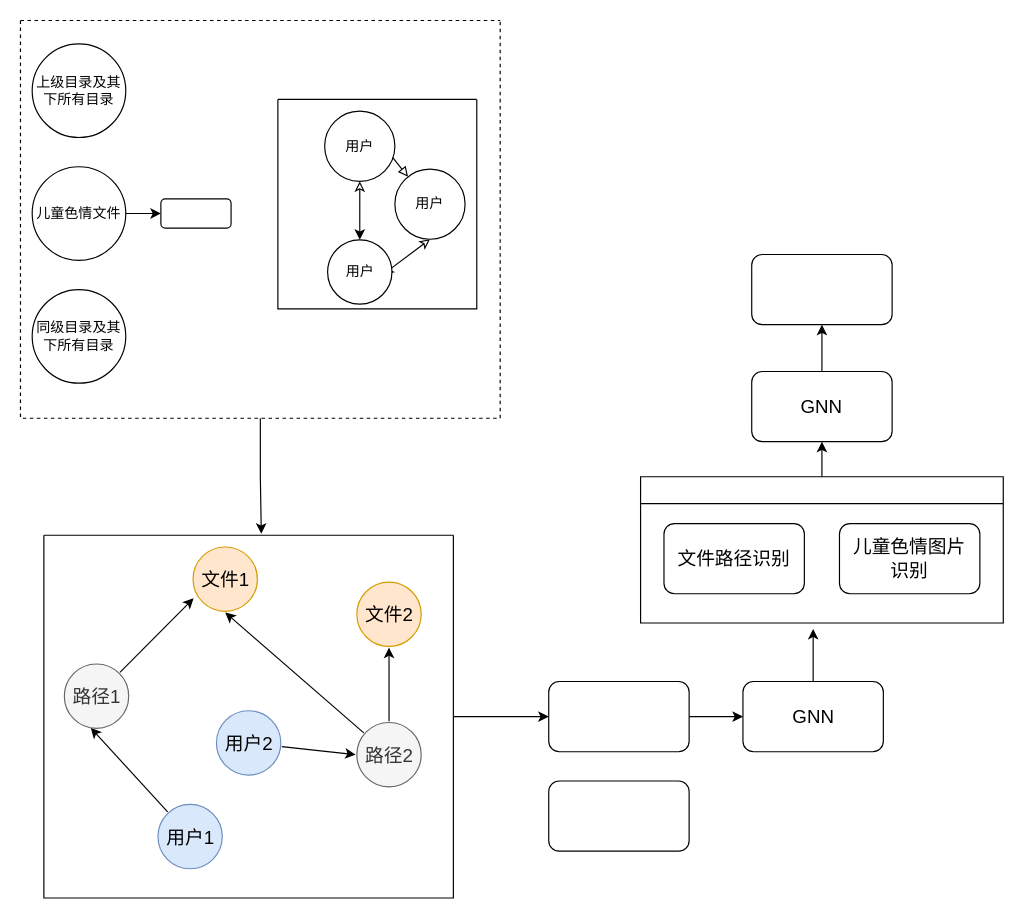
Image size: 1024x918. Some labels were removed from this diagram. The box of each missing label's shape, as (x1, y1, x2, y2) in pixels:
classfication: (751, 253, 892, 325)
Sampling: (548, 680, 689, 752)
内容识别算子: (639, 476, 1003, 623)
溯源: (160, 198, 231, 228)
用户-路径 路径-路径 路径-文件: (548, 780, 689, 851)
